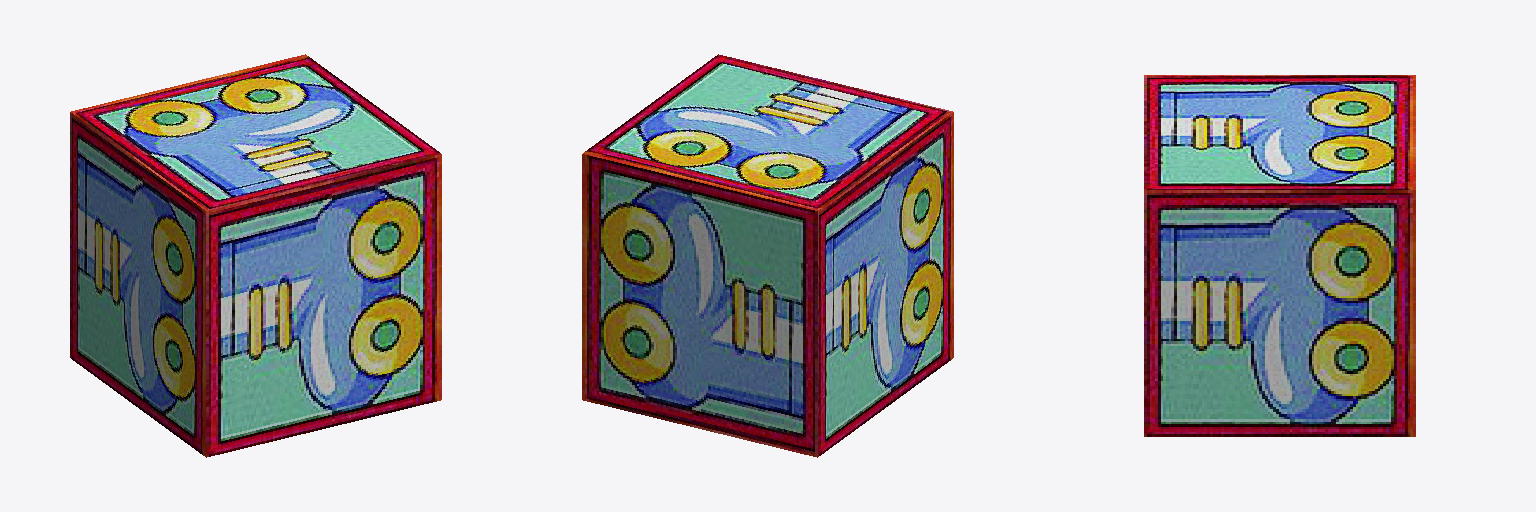
3 views of the same model, side by side, from view 1: azimuth 30°, elevation 25°; view 2: azimuth 150°, elevation 25°; view 3: azimuth 270°, elevation 25° (orthographic).
Visible parts, largest first — view 1: Cube; view 2: Cube; view 3: Cube.
Part boxes in pixels (bbox=[...]): Cube: bbox=[70, 54, 441, 457]; Cube: bbox=[582, 54, 953, 457]; Cube: bbox=[1144, 75, 1415, 436].
Bounding box in the file's own units: 2 × 2 × 2.
Materials: 1 (1 with a texture image).